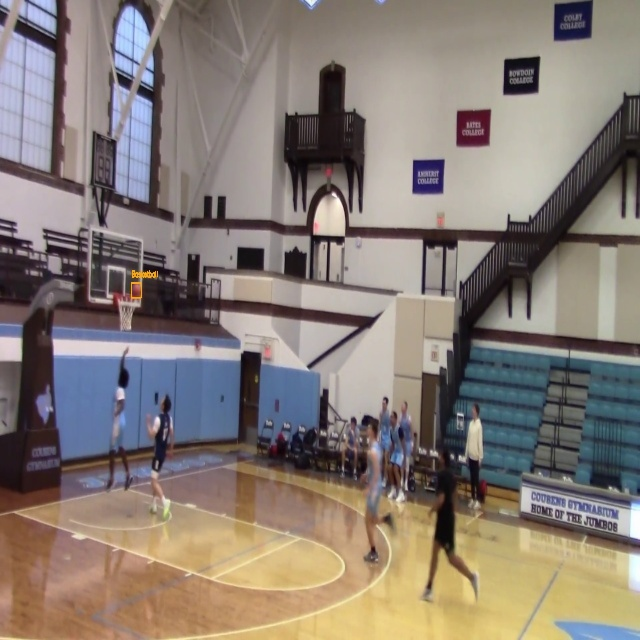Basketball: (131, 283, 141, 297)
